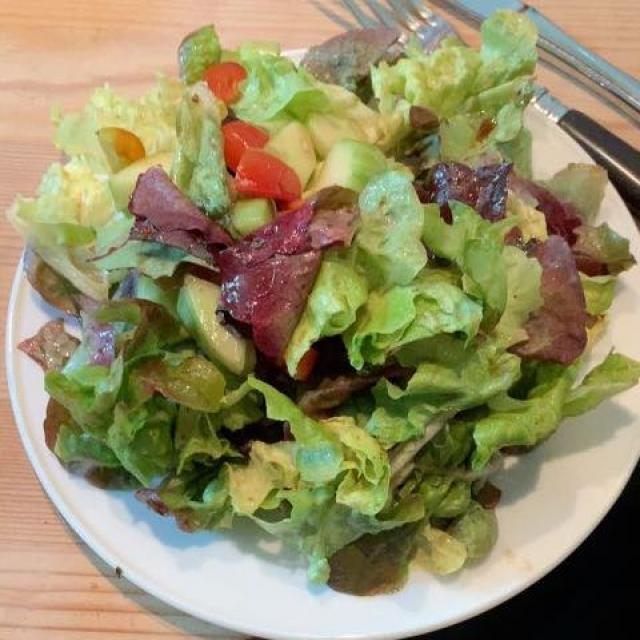salad: (29, 18, 618, 583)
tomato: (111, 59, 292, 238)
